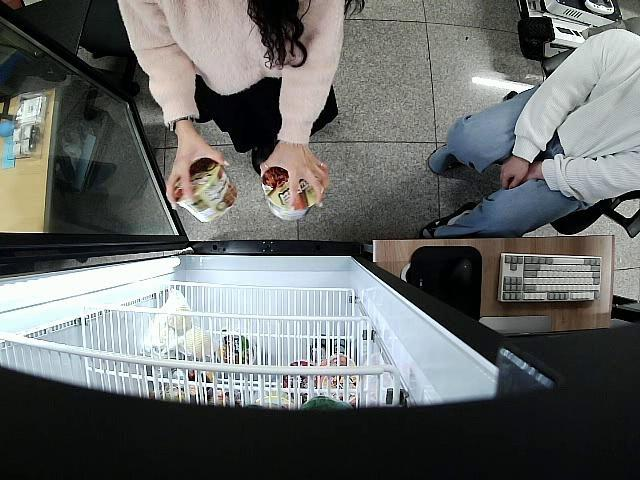03_chapagetti_L: (171, 159, 236, 222), (260, 166, 314, 222)
